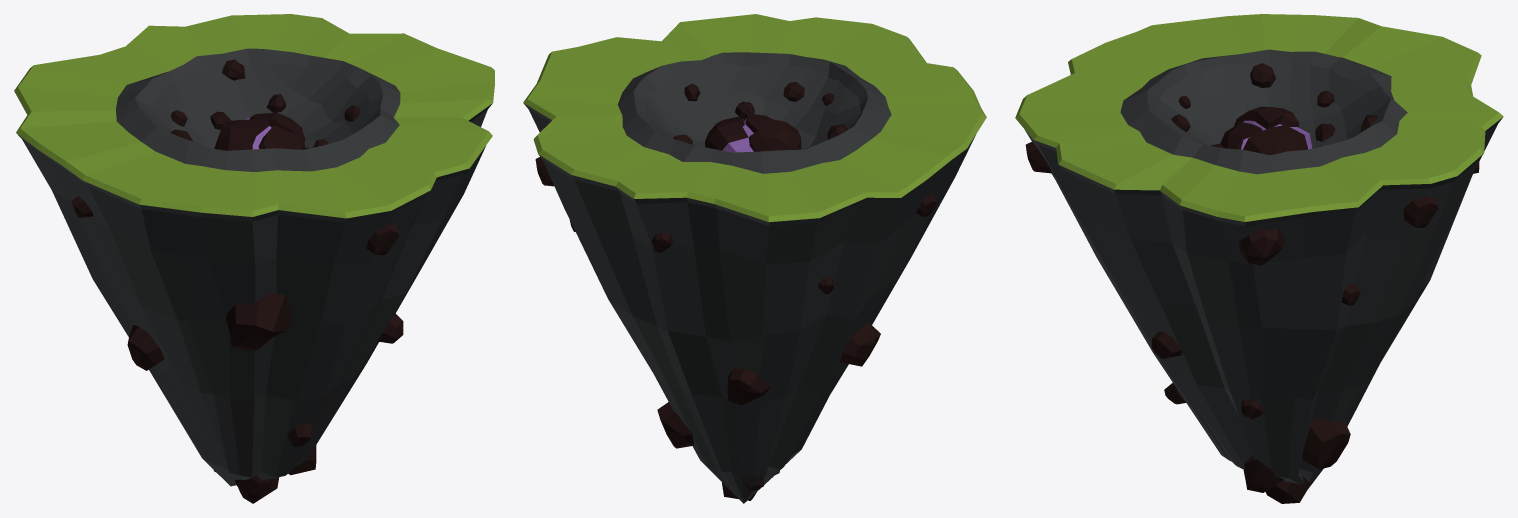
File: MeteorIsland.fbx
3 views of the same model, side by side, from view 1: azimuth 30°, elevation 25°; view 2: azimuth 150°, elevation 25°; view 3: azimuth 270°, elevation 25° (orthographic). The views are drawn at different scales.
Parts seen in each view (by area): view 1: MeteorIsland; view 2: MeteorIsland; view 3: MeteorIsland.
Part boxes in pixels (x1=…): MeteorIsland: x1=14, y1=14, x2=494, y2=503; MeteorIsland: x1=523, y1=14, x2=986, y2=503; MeteorIsland: x1=1015, y1=14, x2=1503, y2=503.
Bounding box in the file's own units: 5203 × 4772 × 5234.
